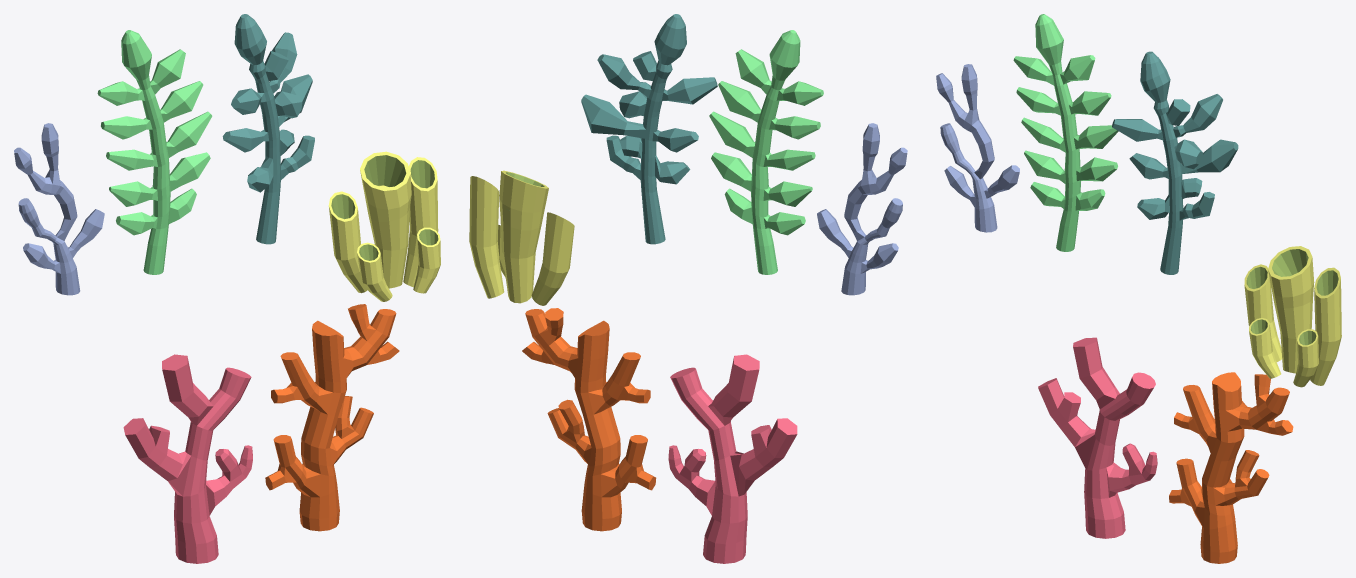
The model's file is CoralM.fbx.
3 views of the same model, side by side, from view 1: azimuth 30°, elevation 25°; view 2: azimuth 150°, elevation 25°; view 3: azimuth 330°, elevation 25° (orthographic). The views are drawn at different scales.
Parts seen in each view (by area): view 1: Cylinder.014, Cylinder.017, Cylinder.015, Cylinder.018, Cylinder.016, Cylinder.021, Cylinder.023, Cylinder.022, Cylinder.019, Cylinder.020; view 2: Cylinder.014, Cylinder.017, Cylinder.015, Cylinder.018, Cylinder.016, Cylinder.021, Cylinder.023, Cylinder.022; view 3: Cylinder.014, Cylinder.017, Cylinder.015, Cylinder.018, Cylinder.016, Cylinder.021, Cylinder.023, Cylinder.022, Cylinder.020, Cylinder.019.
Boxes of the visible parts, x1,y1,x2,y2 form: Cylinder.014: (265, 304, 399, 531); Cylinder.017: (97, 30, 212, 274); Cylinder.015: (123, 354, 252, 563); Cylinder.018: (222, 14, 314, 244); Cylinder.016: (14, 123, 104, 295); Cylinder.021: (360, 151, 411, 288); Cylinder.023: (403, 157, 438, 287); Cylinder.022: (328, 191, 367, 293); Cylinder.019: (413, 227, 440, 293); Cylinder.020: (357, 242, 392, 301); Cylinder.014: (522, 308, 656, 531); Cylinder.017: (709, 30, 823, 274); Cylinder.015: (668, 354, 797, 563); Cylinder.018: (581, 14, 717, 244); Cylinder.016: (817, 123, 907, 295); Cylinder.021: (499, 170, 548, 303); Cylinder.023: (469, 176, 504, 298); Cylinder.022: (531, 212, 574, 305); Cylinder.014: (1169, 372, 1293, 563); Cylinder.017: (1013, 14, 1118, 251); Cylinder.015: (1038, 337, 1157, 538); Cylinder.018: (1112, 51, 1238, 274); Cylinder.016: (936, 64, 1019, 232); Cylinder.021: (1268, 246, 1314, 373); Cylinder.023: (1310, 267, 1341, 385); Cylinder.022: (1244, 264, 1282, 361); Cylinder.020: (1249, 318, 1281, 378); Cylinder.019: (1293, 329, 1318, 387).
Bounding box in the file's own units: 2.39 × 2.88 × 0.3871.
